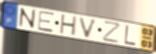E: (37, 10, 56, 34)
H: (59, 14, 79, 38)
L: (123, 24, 137, 47)
N: (18, 6, 37, 30)
V: (78, 16, 99, 40)
Z: (102, 21, 123, 45)
